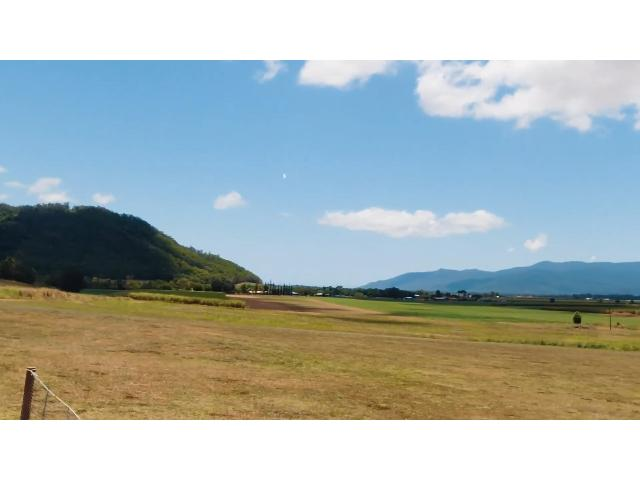Anti-Drone: (278, 172, 292, 184)
